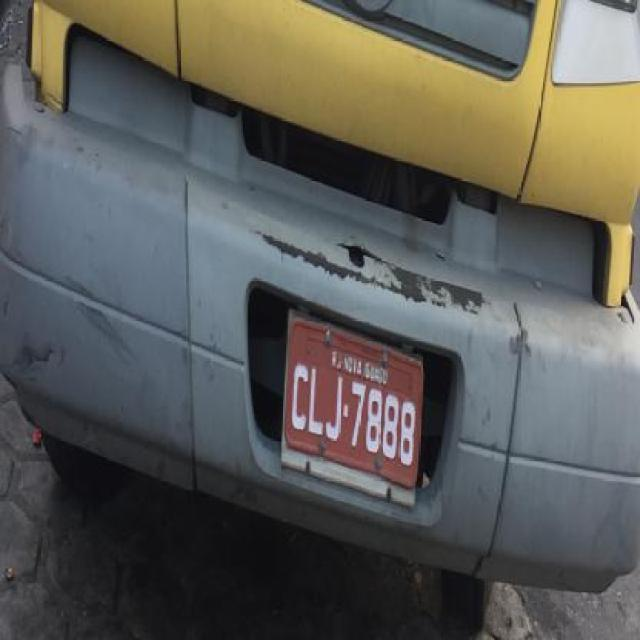old_plate: (273, 302, 431, 495)
